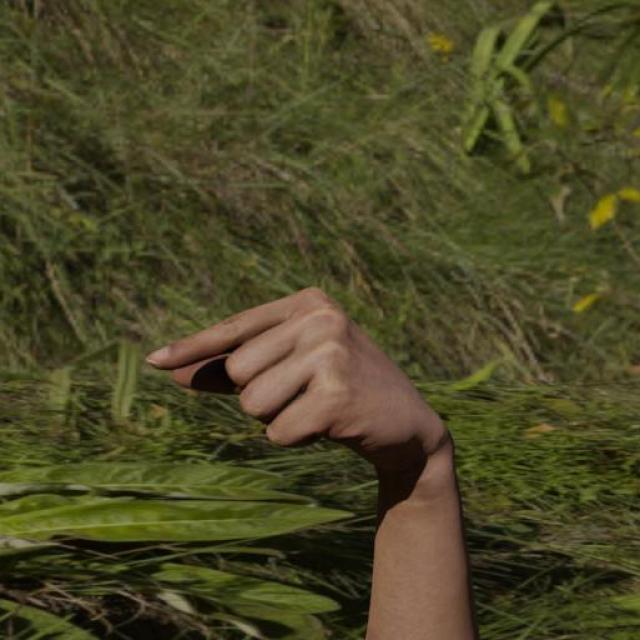G: (142, 281, 459, 463)
